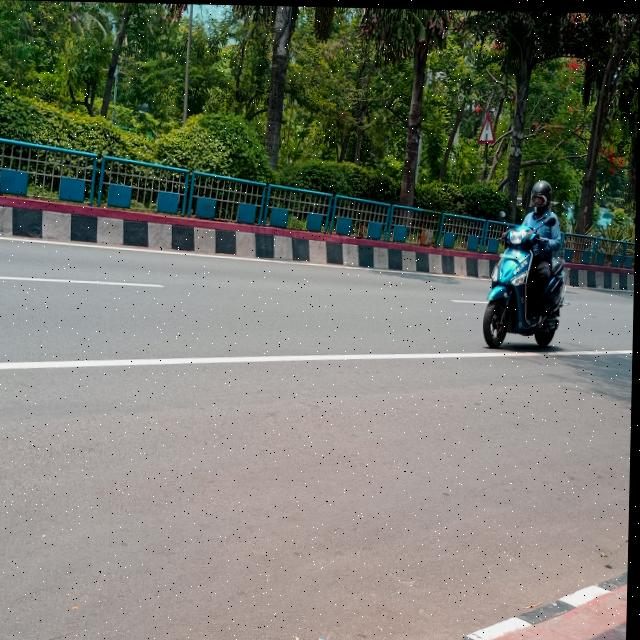bike: (478, 221, 573, 356)
